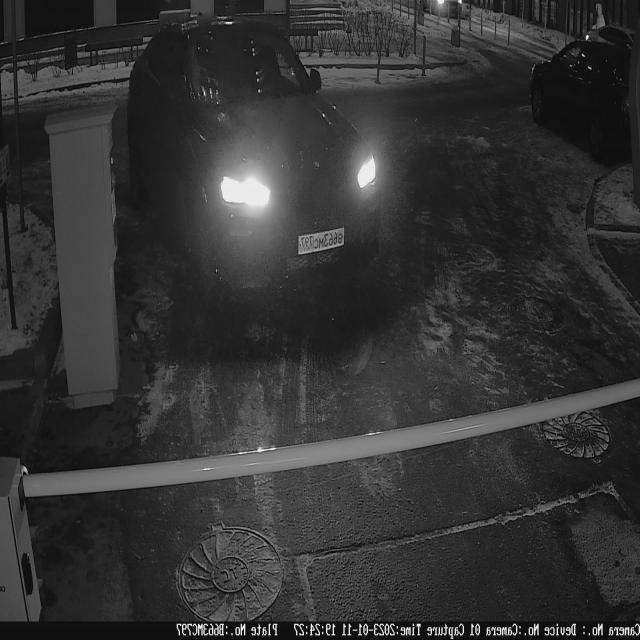car-plate-numbers: (296, 224, 351, 262)
